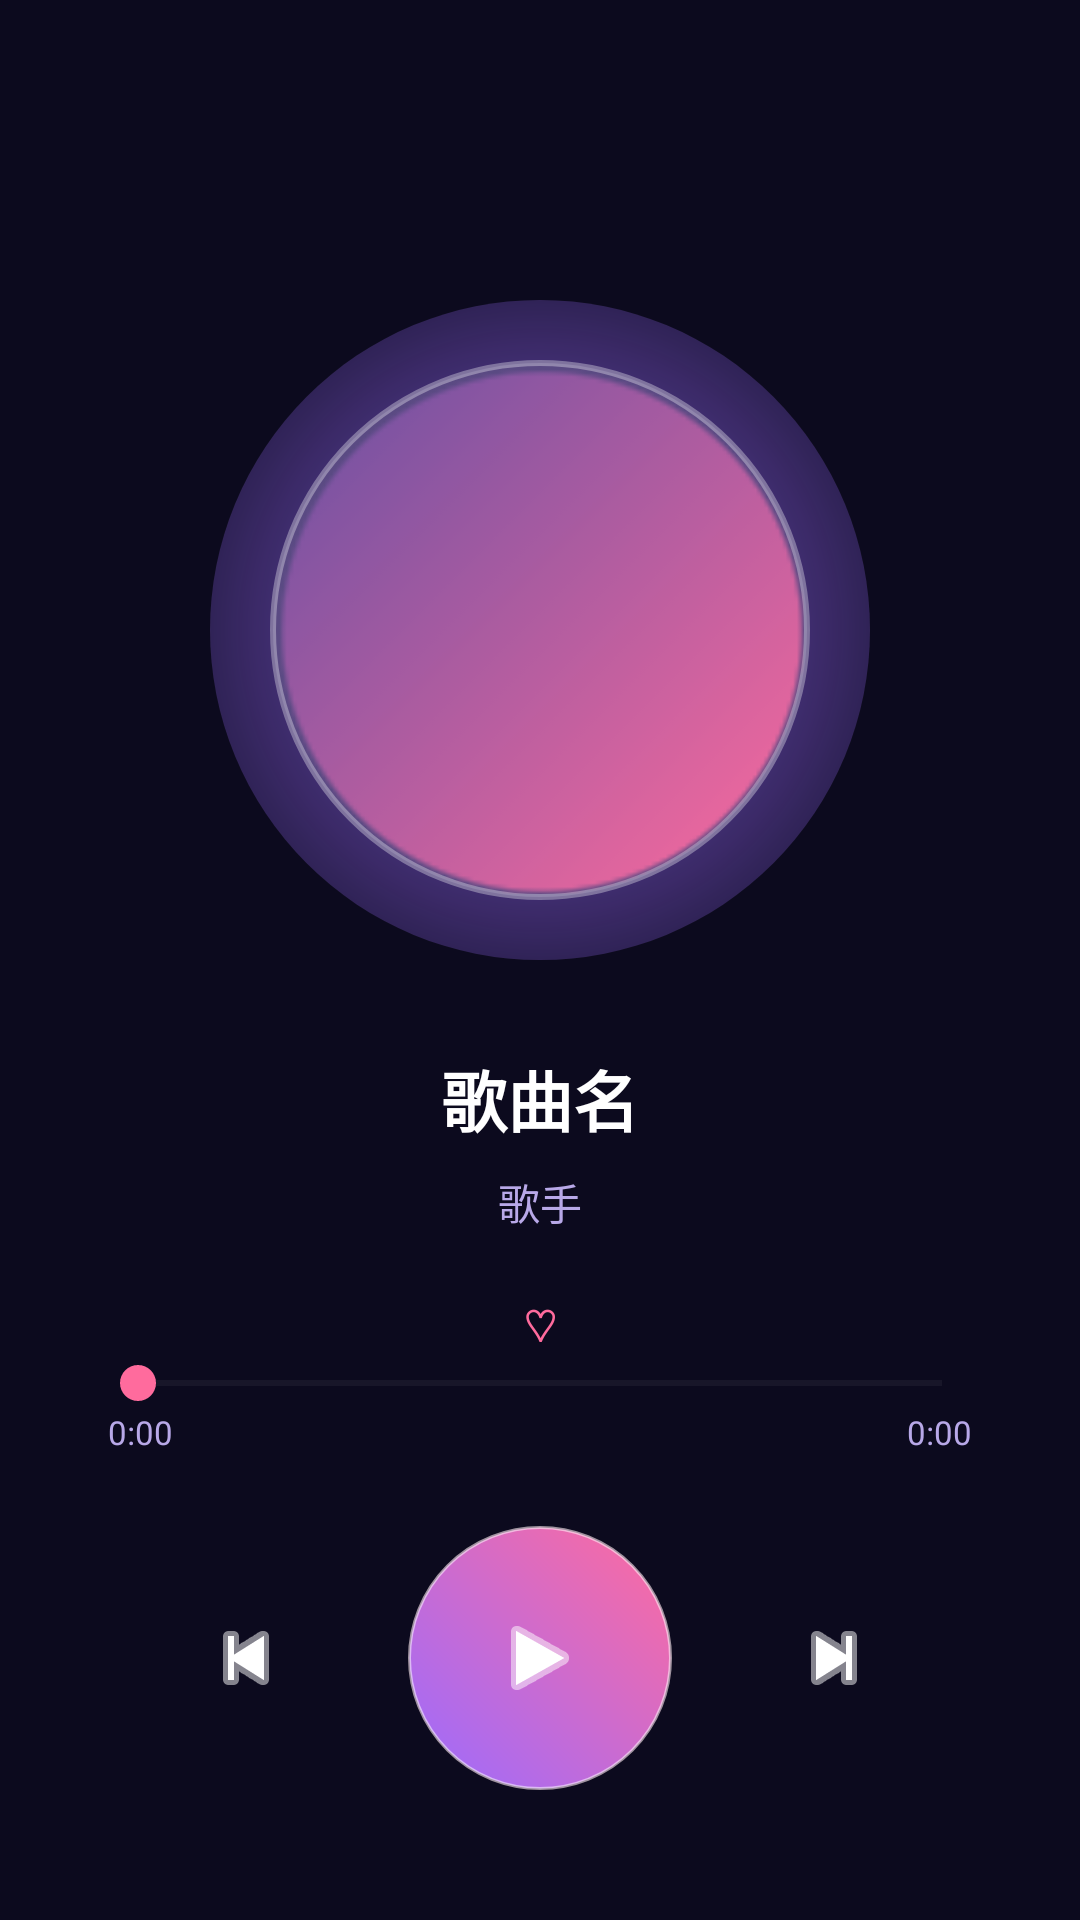

Where icons sit on this 1080px x 1920px app screen, as [left=x1, top=y1, right=x2, bottom=y2]:
next: [left=811, top=1631, right=857, bottom=1685]
play: [left=408, top=1526, right=672, bottom=1790]
previous: [left=223, top=1631, right=269, bottom=1685]
